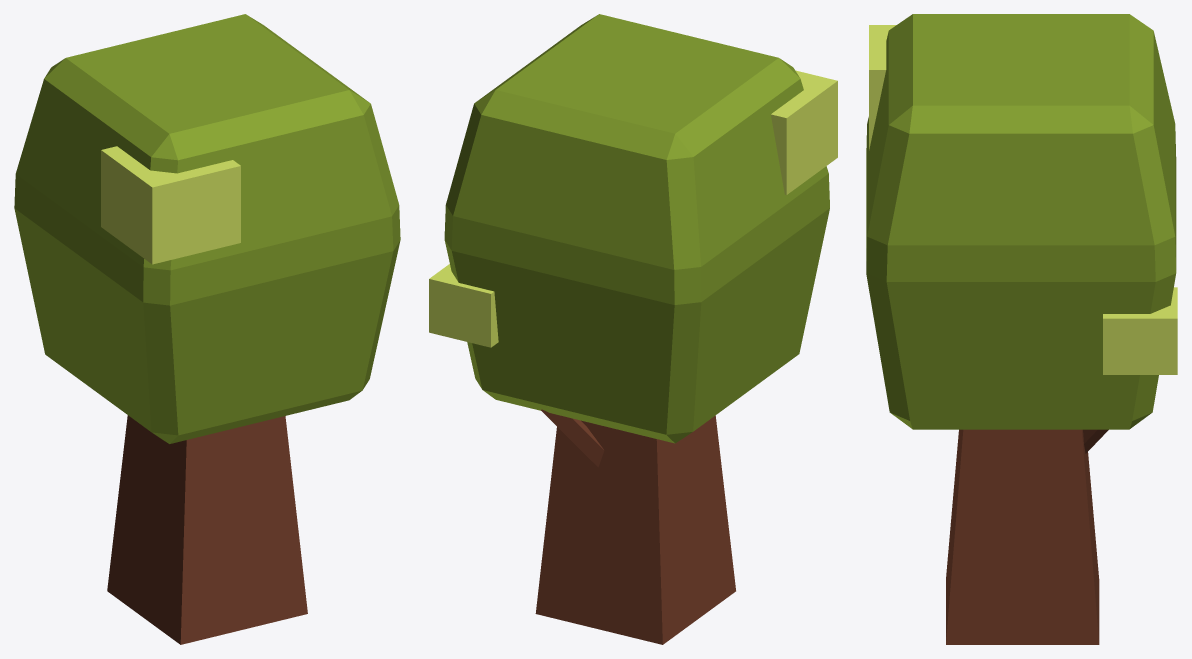
The model's file is Copac-1.fbx.
3 views of the same model, side by side, from view 1: azimuth 30°, elevation 25°; view 2: azimuth 150°, elevation 25°; view 3: azimuth 270°, elevation 25° (orthographic). The views are drawn at different scales.
Parts seen in each view (by area): view 1: Cube.003; view 2: Cube.003; view 3: Cube.003.
Part boxes in pixels (bbox=[...]): Cube.003: bbox=[14, 14, 400, 644]; Cube.003: bbox=[429, 14, 837, 644]; Cube.003: bbox=[866, 14, 1177, 644].
Size of the model in its own units: 1.87 by 3.61 by 1.85.
